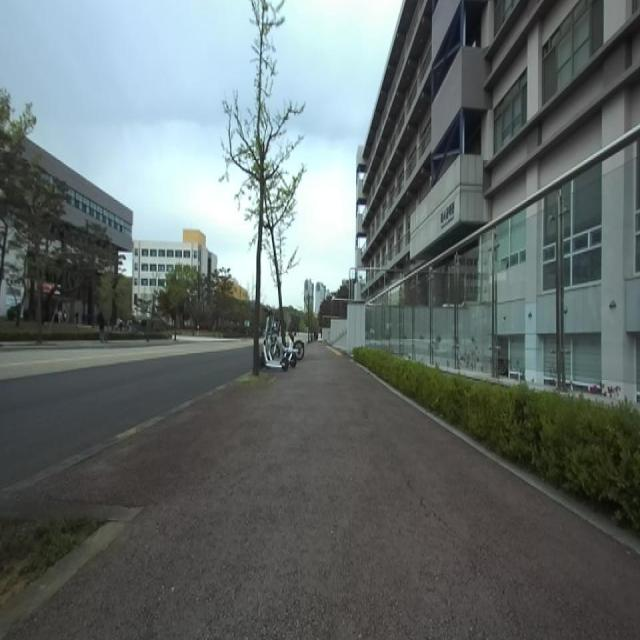sidewalk: (10, 345, 640, 640), (354, 360, 640, 555), (0, 379, 238, 496)
